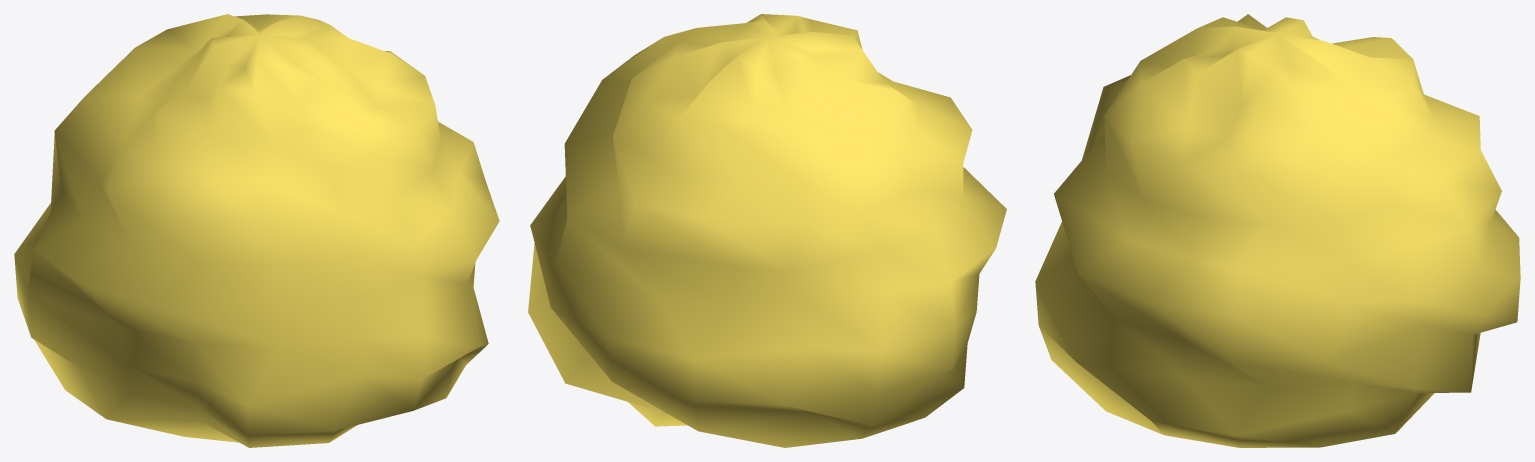
File: ArbolSeco_05.fbx
The picture shows the model from 3 angles, left to right: view 1: azimuth 30°, elevation 25°; view 2: azimuth 150°, elevation 25°; view 3: azimuth 270°, elevation 25°; orthographic projection.
Parts seen in each view (by area): view 1: ArbolSeco_05; view 2: ArbolSeco_05; view 3: ArbolSeco_05.
Boxes of the visible parts, left/top/right/bottom form: ArbolSeco_05: left=14, top=14, right=499, bottom=447; ArbolSeco_05: left=528, top=14, right=1006, bottom=447; ArbolSeco_05: left=1035, top=14, right=1520, bottom=447.
Bounding box in the file's own units: 1652 × 1465 × 1647.
